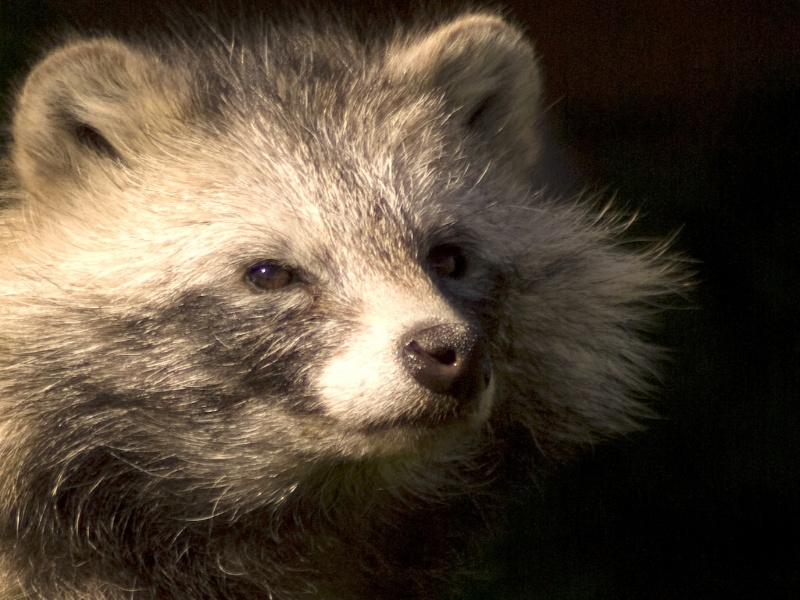raccoon: (10, 13, 650, 594)
